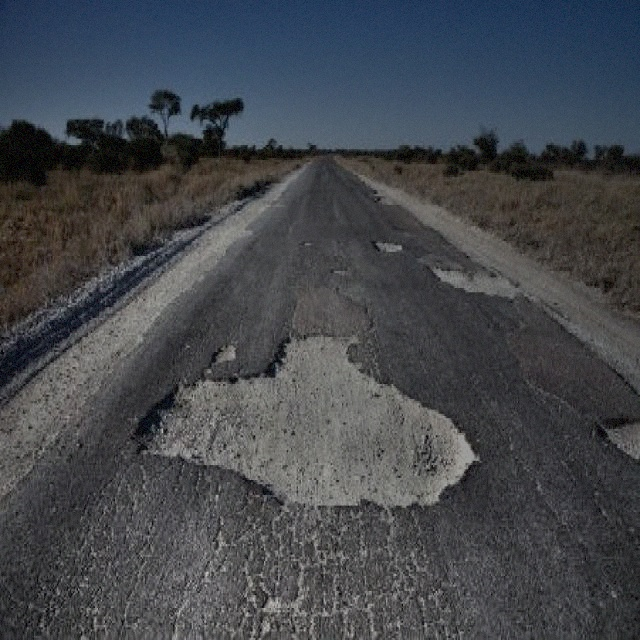pothole: (131, 328, 481, 510), (430, 256, 518, 301), (594, 409, 638, 458), (208, 341, 238, 365), (370, 234, 403, 252)
